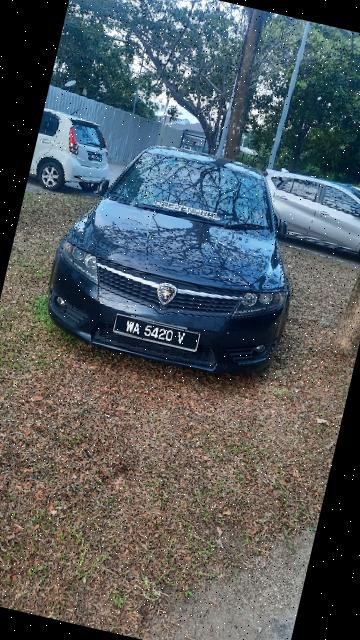License_Plate: (111, 311, 207, 358)
car: (29, 119, 326, 396)
